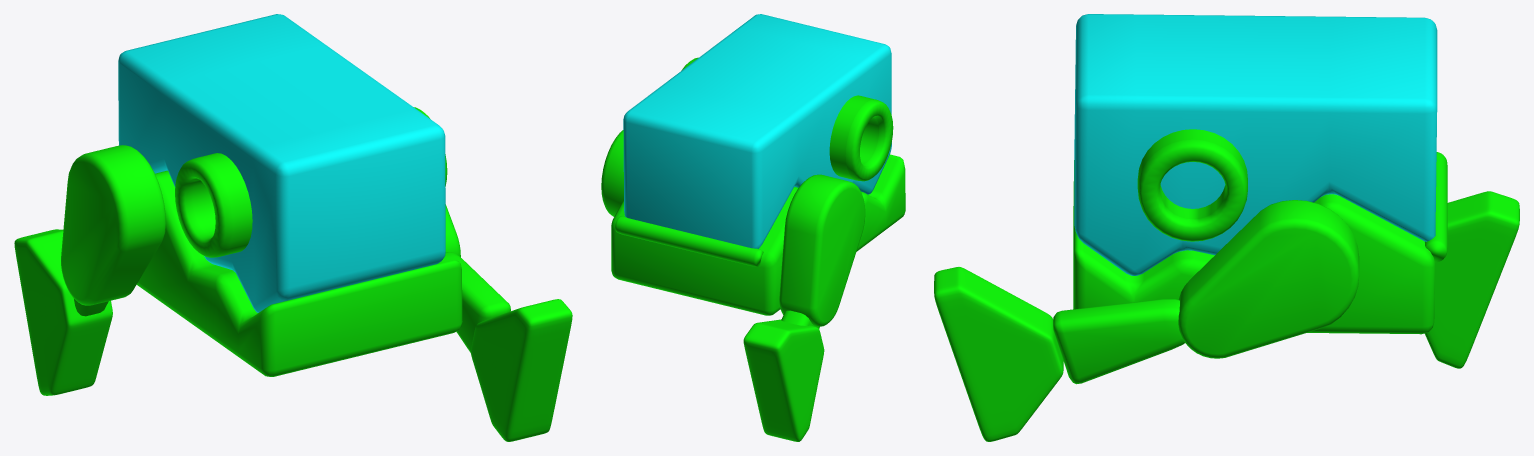
The picture shows the model from 3 angles, left to right: view 1: azimuth 30°, elevation 25°; view 2: azimuth 150°, elevation 25°; view 3: azimuth 270°, elevation 25°; orthographic projection. The views are drawn at different scales.
Parts seen in each view (by area): view 1: Top_Jaw, Lower_Jaw, Thighs_Left, Feet_Right, Feet_Left, Eyes, Shin_Right; view 2: Top_Jaw, Lower_Jaw, Thighs_Left, Feet_Left, Eyes, Hinge, Thighs_Right, Shin_Left; view 3: Top_Jaw, Thighs_Right, Lower_Jaw, Feet_Right, Feet_Left, Eyes, Shin_Right, Hinge.
Boxes of the visible parts, x1=… form: Top_Jaw: x1=118, y1=14, x2=445, y2=312; Lower_Jaw: x1=136, y1=170, x2=462, y2=376; Thighs_Left: x1=61, y1=145, x2=165, y2=305; Feet_Right: x1=471, y1=299, x2=572, y2=441; Feet_Left: x1=14, y1=229, x2=112, y2=395; Eyes: x1=175, y1=107, x2=447, y2=257; Shin_Right: x1=438, y1=252, x2=510, y2=352; Top_Jaw: x1=623, y1=14, x2=891, y2=248; Lower_Jaw: x1=611, y1=154, x2=905, y2=315; Thighs_Left: x1=779, y1=174, x2=865, y2=326; Feet_Left: x1=743, y1=319, x2=824, y2=441; Eyes: x1=681, y1=57, x2=893, y2=181; Hinge: x1=615, y1=216, x2=763, y2=266; Thighs_Right: x1=601, y1=130, x2=623, y2=216; Shin_Left: x1=781, y1=310, x2=819, y2=328; Top_Jaw: x1=1074, y1=14, x2=1437, y2=275; Thighs_Right: x1=1178, y1=200, x2=1359, y2=358; Lower_Jaw: x1=1073, y1=160, x2=1435, y2=334; Feet_Right: x1=934, y1=267, x2=1063, y2=441; Feet_Left: x1=1424, y1=191, x2=1519, y2=368; Eyes: x1=1137, y1=129, x2=1247, y2=241; Shin_Right: x1=1053, y1=299, x2=1184, y2=384; Hinge: x1=1425, y1=152, x2=1447, y2=262.
Size of the model in its own units: 2.03 by 2.26 by 3.24.
